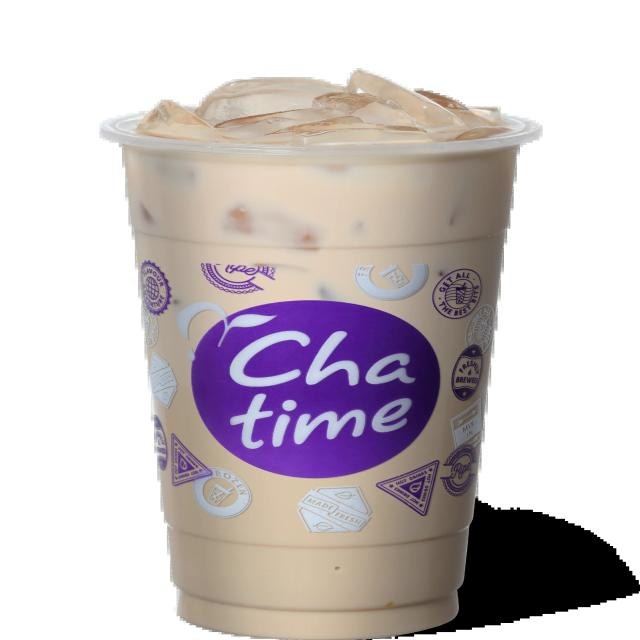chatime: (176, 299, 444, 482)
